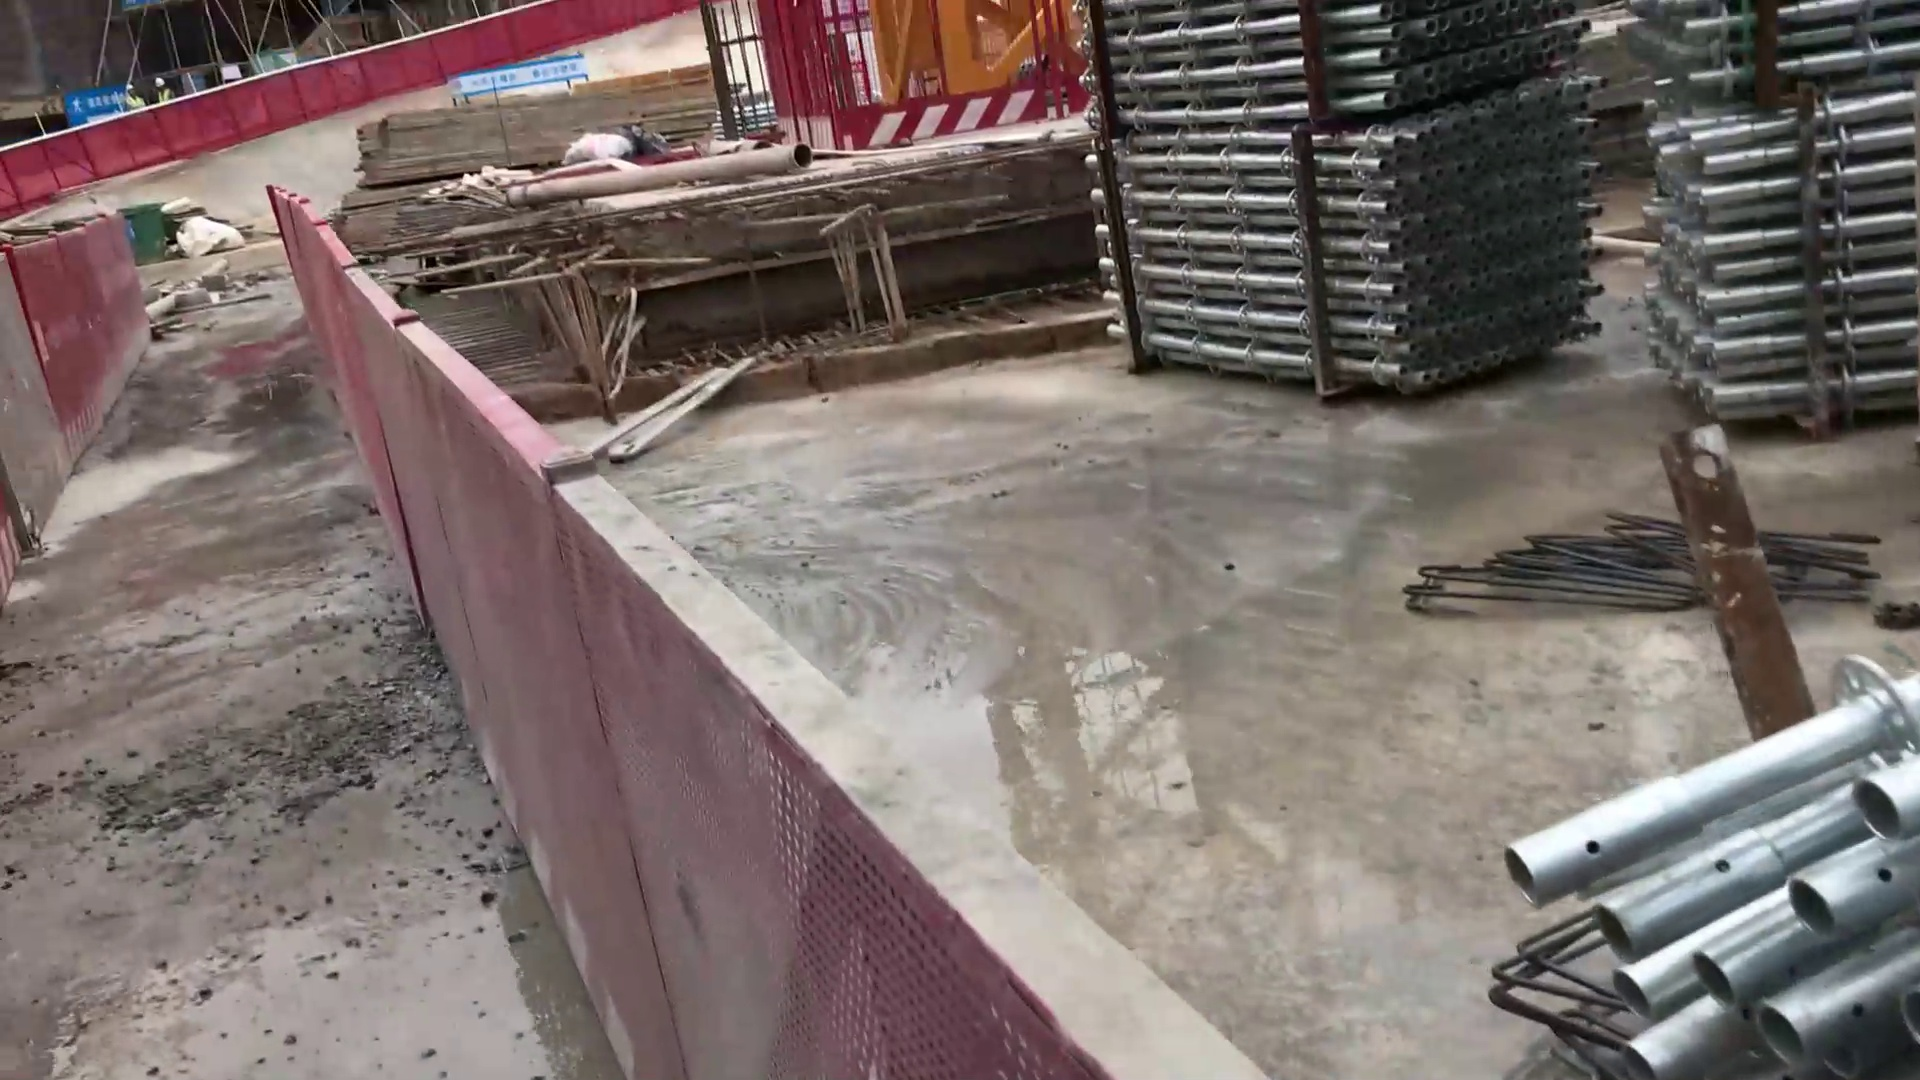fence: (572, 479, 1034, 1079), (138, 65, 339, 185)
rebar: (345, 55, 740, 170)
scaffold: (1091, 1, 1607, 423), (1625, 1, 1919, 423)
slogan: (440, 53, 595, 94), (63, 87, 138, 117)
